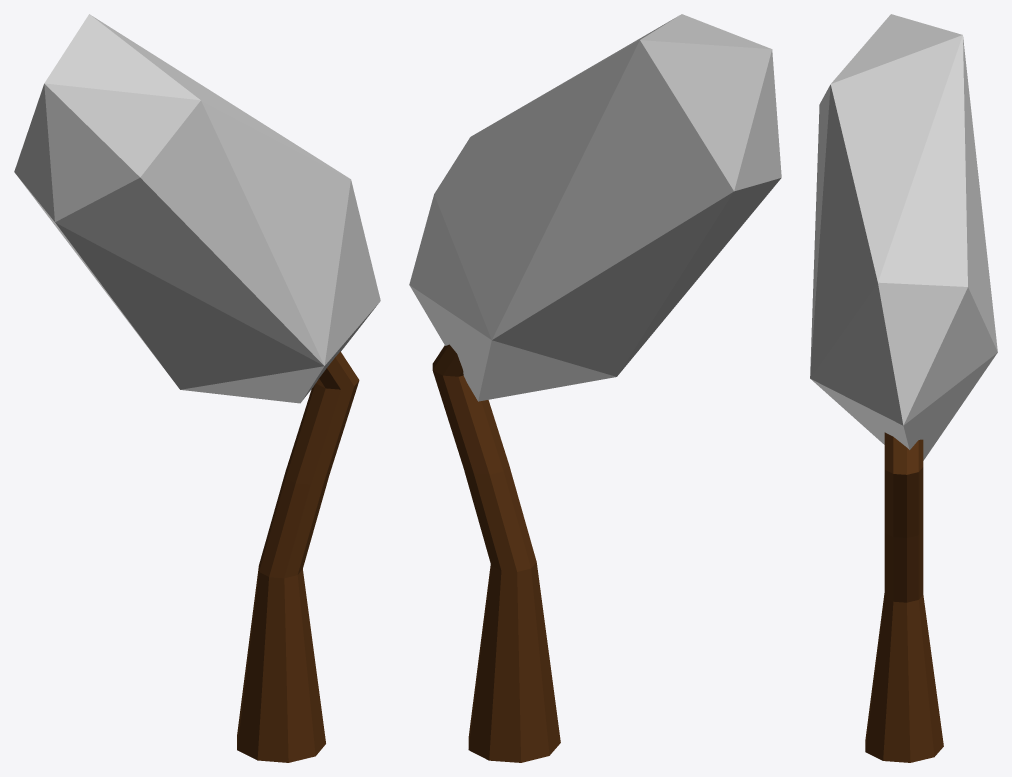
File: Tree_15.fbx
3 renders of one model, left to right at view 1: azimuth 30°, elevation 25°; view 2: azimuth 150°, elevation 25°; view 3: azimuth 270°, elevation 25°, orthographic. The views are drawn at different scales.
Parts seen in each view (by area): view 1: Tree_15; view 2: Tree_15; view 3: Tree_15.
Boxes of the visible parts, x1,y1,x2,y2 form: Tree_15: (14,14,380,762); Tree_15: (409,14,781,762); Tree_15: (810,14,997,762).
Size of the model in its own units: 309 by 637 by 168.
